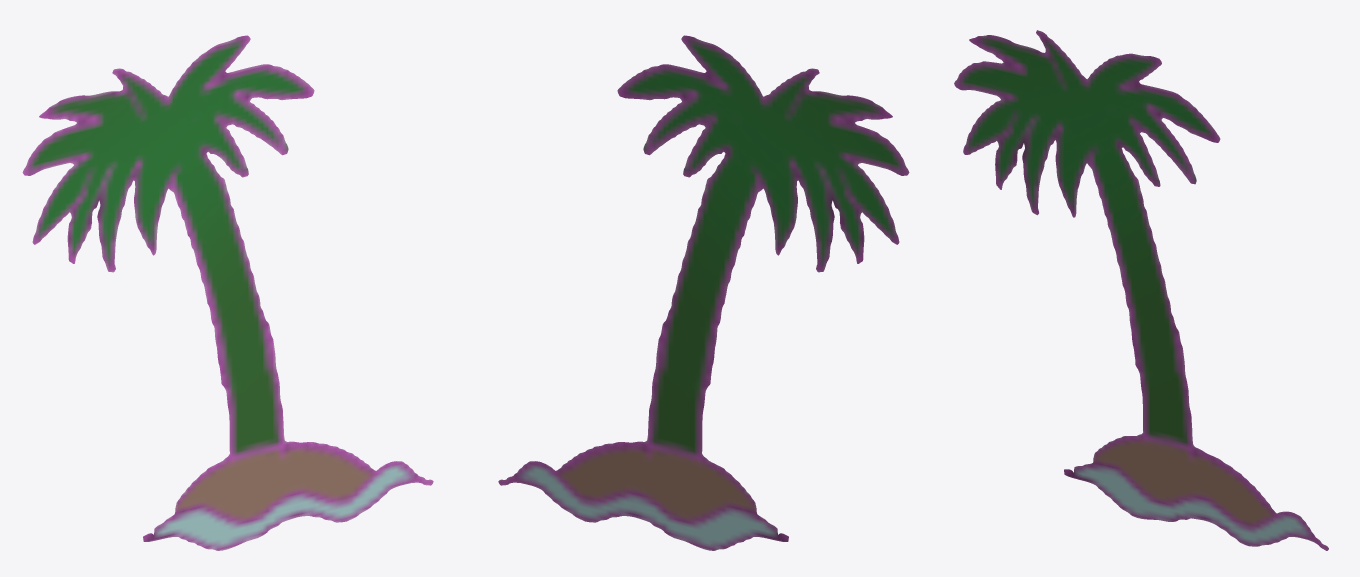
Rendered from giftgoods092.fbx.
3 renders of one model, left to right at view 1: azimuth 30°, elevation 25°; view 2: azimuth 150°, elevation 25°; view 3: azimuth 330°, elevation 25°, orthographic. The views are drawn at different scales.
Parts seen in each view (by area): view 1: giftgoods092; view 2: giftgoods092; view 3: giftgoods092.
Part boxes in pixels (x1,y1,x2,y2): giftgoods092: [22, 35, 433, 550]; giftgoods092: [498, 35, 909, 550]; giftgoods092: [954, 30, 1328, 550].
Size of the model in its own units: 0.6634 by 0.7821 by 0.
